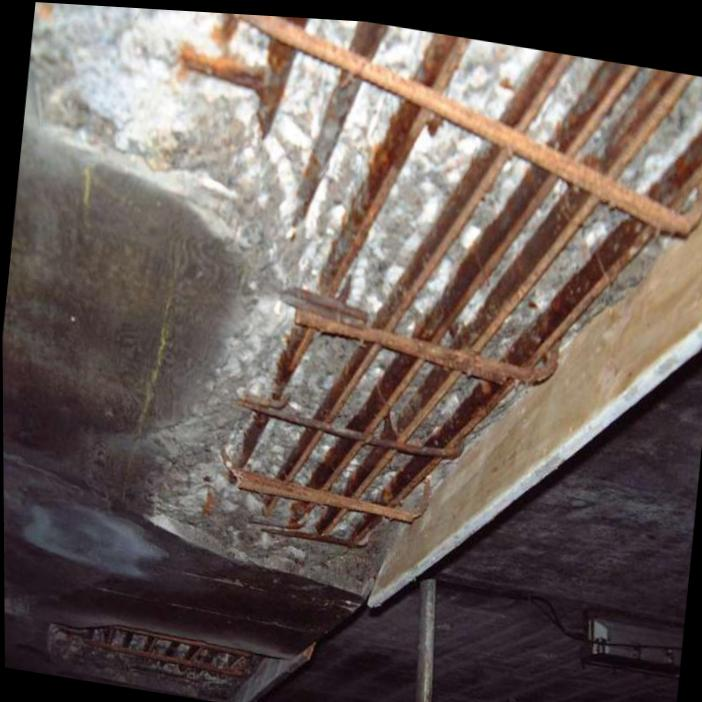damage: (34, 2, 702, 554)
